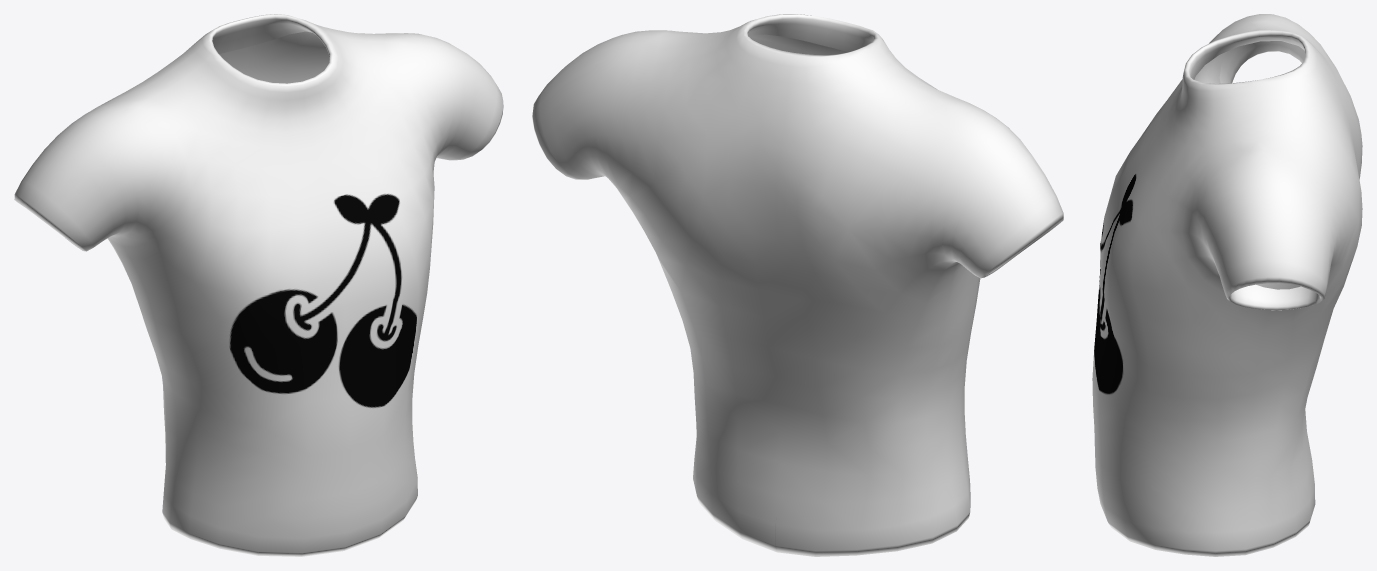
File: Basic Tee2 Catalog_Model.fbx
3 views of the same model, side by side, from view 1: azimuth 30°, elevation 25°; view 2: azimuth 150°, elevation 25°; view 3: azimuth 270°, elevation 25° (orthographic). The views are drawn at different scales.
Parts seen in each view (by area): view 1: Basic Tee2; view 2: Basic Tee2; view 3: Basic Tee2.
Part boxes in pixels (<box>): Basic Tee2: <box>14,14,503,556</box>; Basic Tee2: <box>532,14,1063,556</box>; Basic Tee2: <box>1092,14,1362,556</box>.
Bounding box in the file's own units: 939 × 871 × 463.
1 material, 1 textured.
